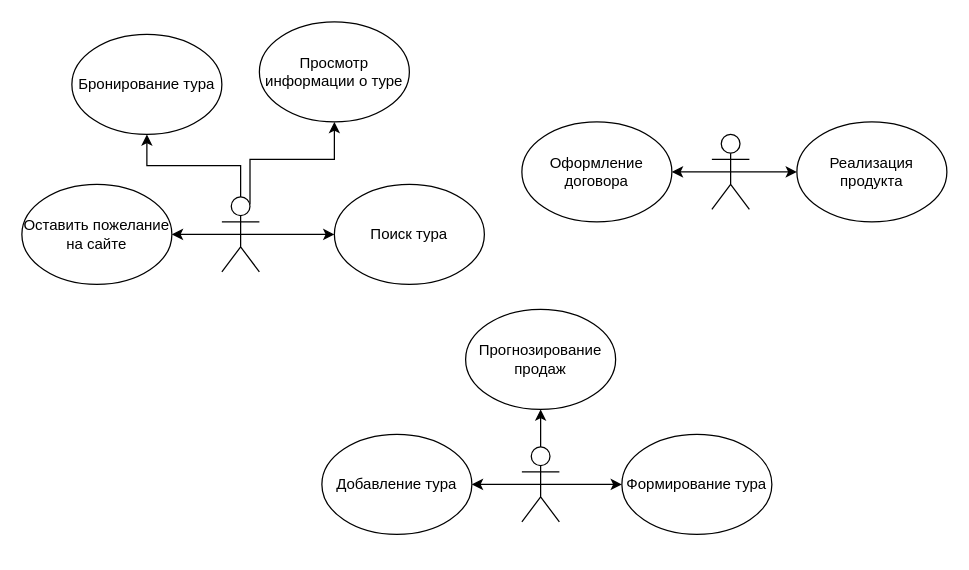
Image size: 969x570. Some labels were removed from this diagram. Here are the shapes that lost their labels. From the top down, the box of each, then its label:
(711, 133, 749, 209): Турагент
(221, 196, 259, 272): Клиент
(521, 446, 559, 522): Туроператор
